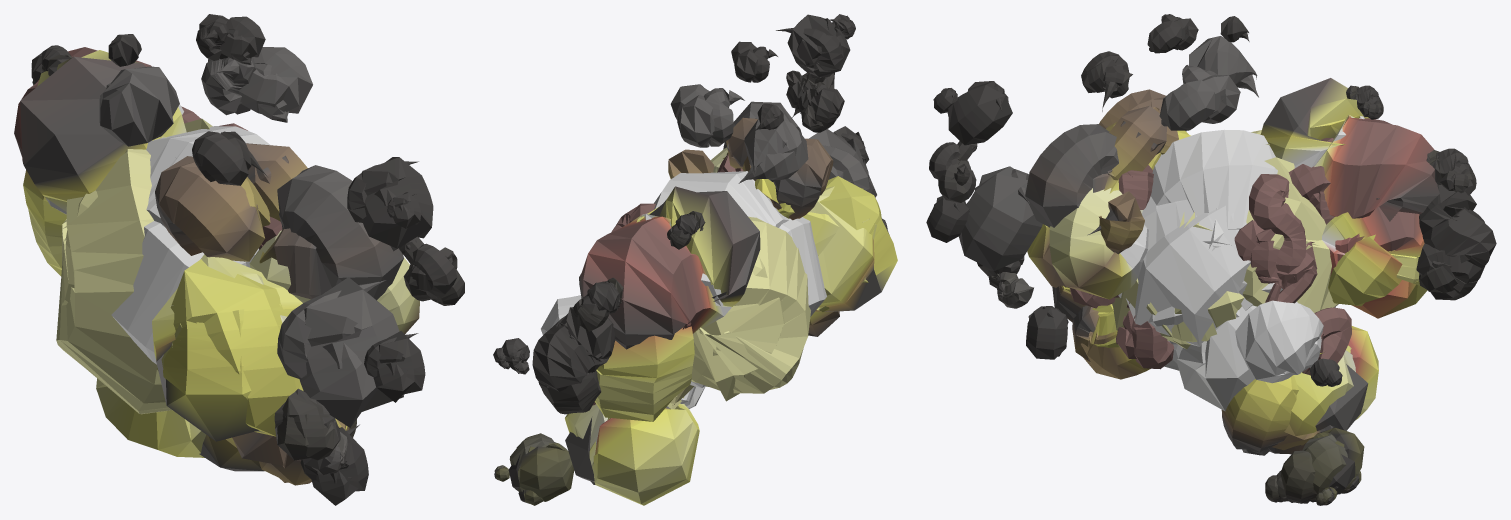
File: Fx_explosion2.fbx
3 views of the same model, side by side, from view 1: azimuth 30°, elevation 25°; view 2: azimuth 150°, elevation 25°; view 3: azimuth 270°, elevation 25° (orthographic). The views are drawn at different scales.
Visible parts, largest first — view 1: Fx_explosion2; view 2: Fx_explosion2; view 3: Fx_explosion2.
Boxes of the visible parts, x1,y1,x2,y2 form: Fx_explosion2: (14,14,464,505); Fx_explosion2: (493,14,897,505); Fx_explosion2: (926,14,1496,505).
Size of the model in its own units: 5.6 by 8.63 by 10.67.
